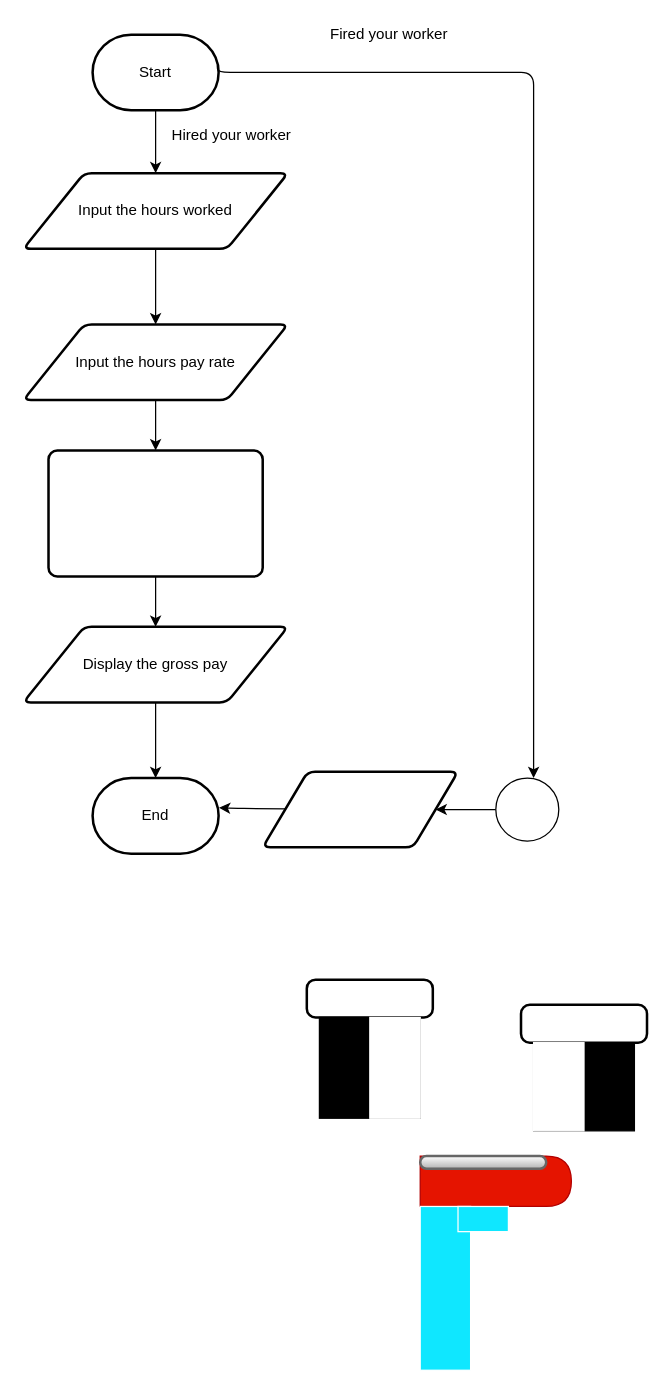
The diagram is 669 pixels wide and 1392 high, and some of its shapes have lost their labels. Each missing label, with the centre of its shape:
Calculate gross pay as hours worked mutltiplied: the point at 155,513
Dont pay and fired them: the point at 360,809
